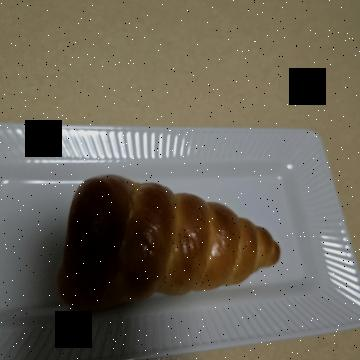cream horn: (169, 63, 329, 316)
